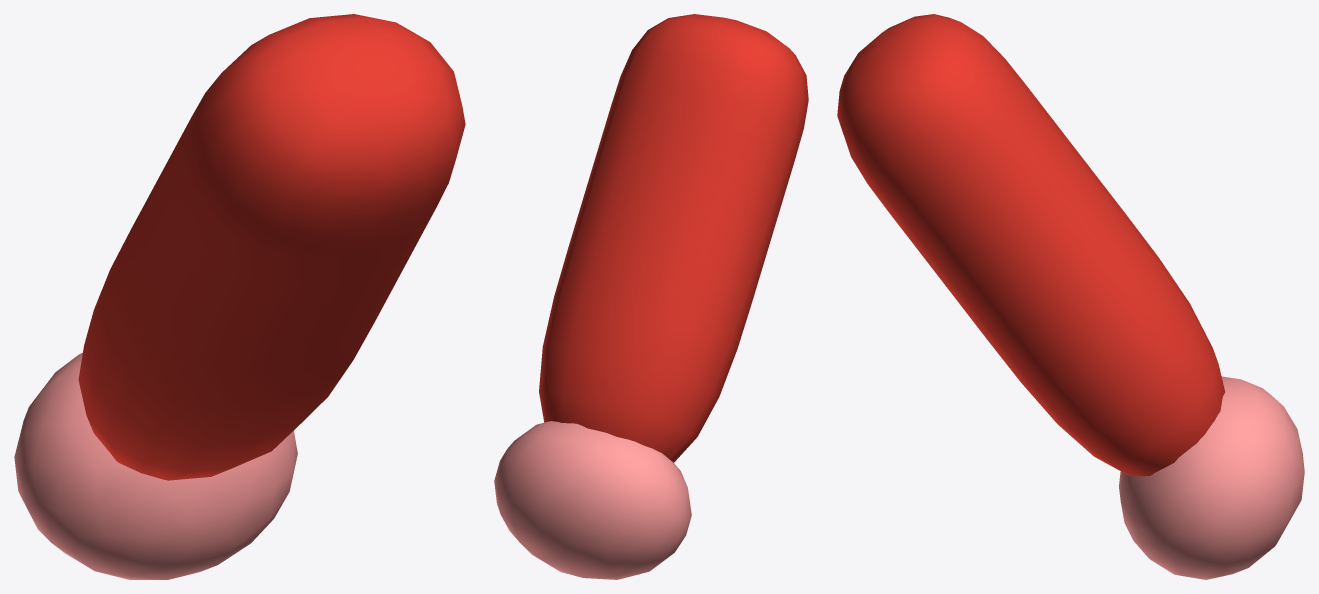
Rendered from farmer_arm.glb.
3 renders of one model, left to right at view 1: azimuth 30°, elevation 25°; view 2: azimuth 150°, elevation 25°; view 3: azimuth 270°, elevation 25°, orthographic. The views are drawn at different scales.
Parts seen in each view (by area): view 1: Cube.014; view 2: Cube.014; view 3: Cube.014.
Boxes of the visible parts, <box> form: Cube.014: <box>14,14,465,579</box>; Cube.014: <box>494,14,808,579</box>; Cube.014: <box>837,14,1304,579</box>.
Size of the model in its own units: 0.3937 by 0.9727 by 0.7678.
